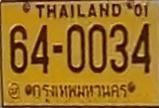0: (66, 24, 85, 72), (88, 24, 106, 72)
3: (109, 23, 127, 72)
4: (131, 22, 150, 72), (30, 24, 48, 73)
6: (9, 24, 27, 72)
BKK: (29, 79, 130, 104)
